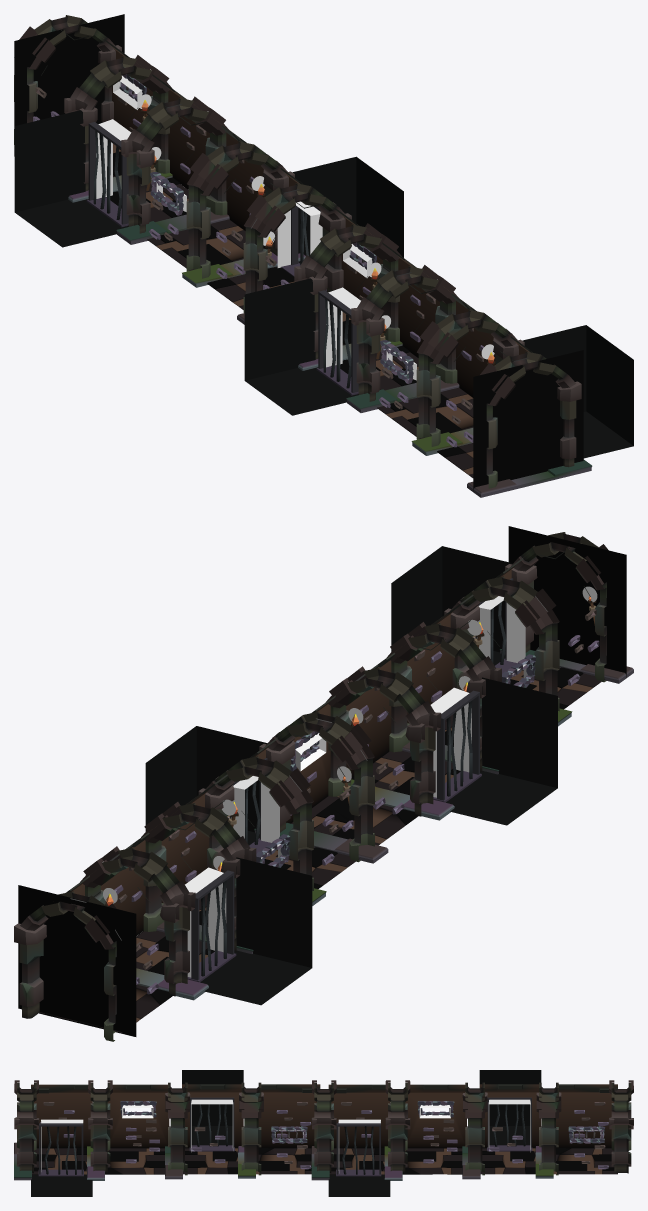
Rendered from Transition Hallway.fbx.
3 views of the same model, one above another, from view 1: azimuth 30°, elevation 25°; view 2: azimuth 150°, elevation 25°; view 3: azimuth 270°, elevation 25° (orthographic). The views are drawn at different scales.
Visible parts, largest first — view 1: Hallway.002; view 2: Hallway.002; view 3: Hallway.002.
Boxes of the visible parts, box(x1,y1,x2,y2) form: Hallway.002: box(14, 14, 633, 497); Hallway.002: box(14, 526, 633, 1041); Hallway.002: box(14, 1070, 633, 1196).
Size of the model in its own units: 9.99 by 5.21 by 36.84.
